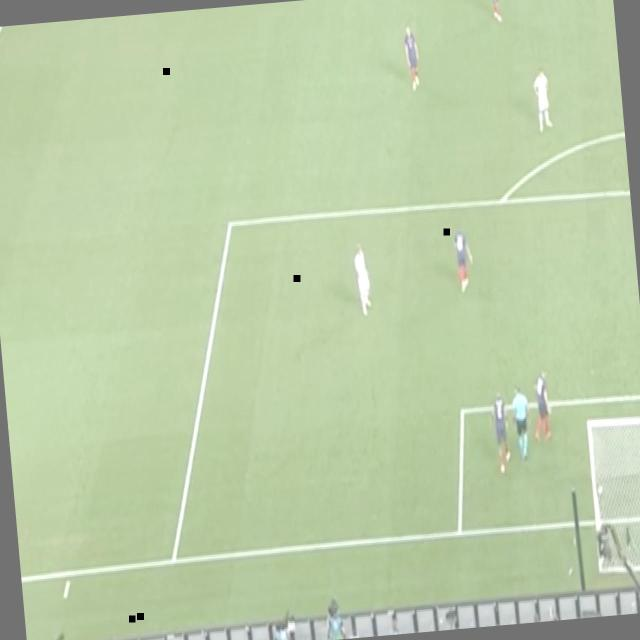player-white: (484, 387, 516, 477), (508, 381, 538, 467), (527, 368, 559, 444), (449, 218, 478, 300), (529, 61, 557, 136), (351, 239, 375, 321), (400, 21, 424, 95), (488, 0, 508, 25)
